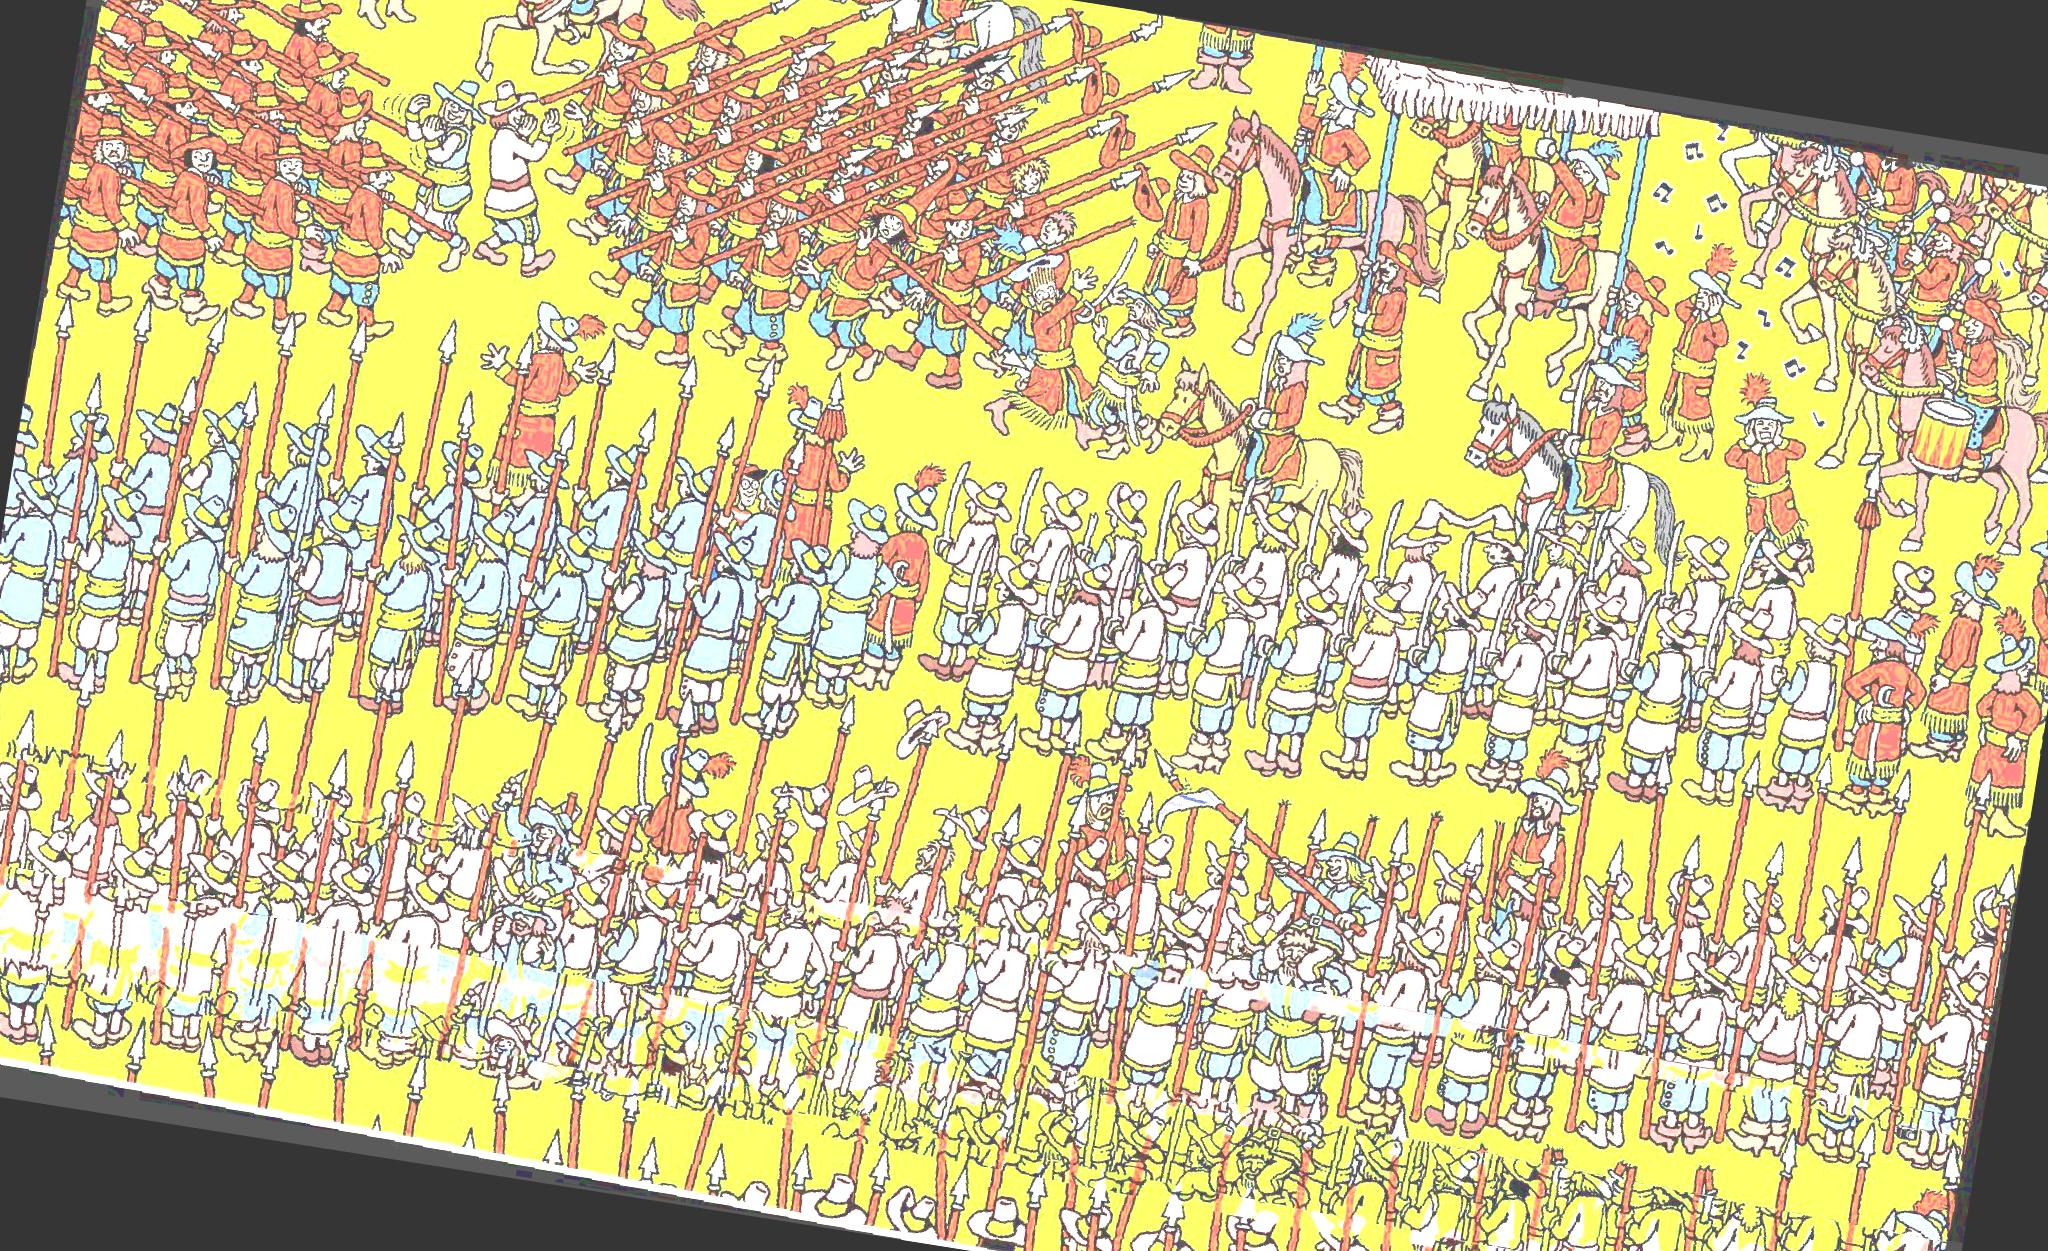waldo: (724, 454, 769, 509)
